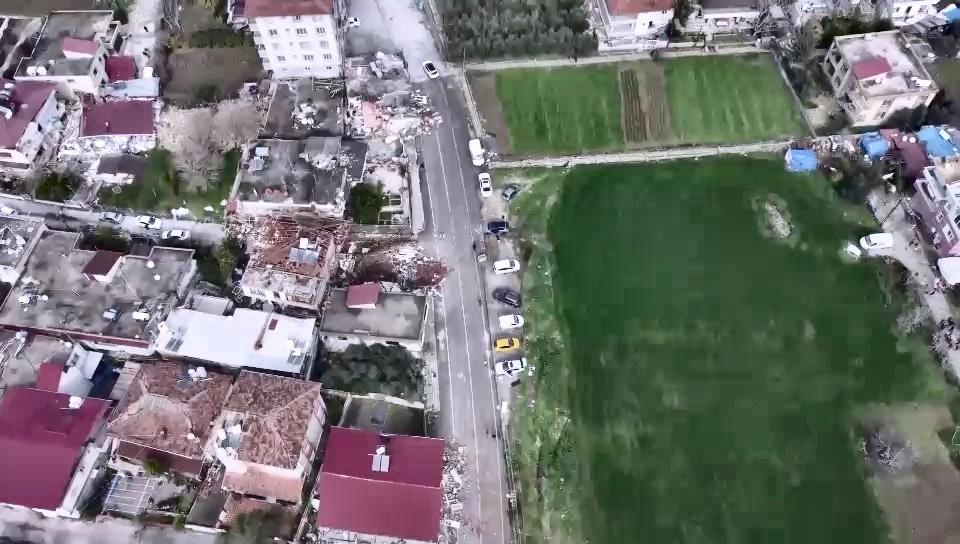kapali: (196, 223, 450, 261)
